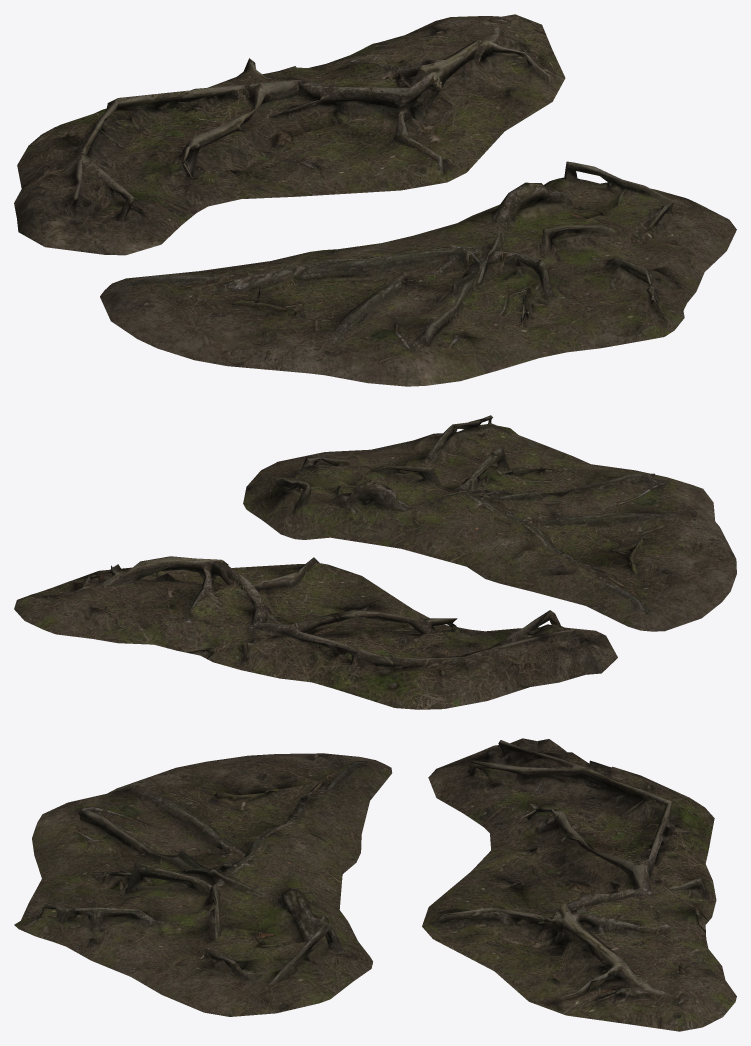
Rendered from pine_roots-lod.glb.
3 views of the same model, one above another, from view 1: azimuth 30°, elevation 25°; view 2: azimuth 150°, elevation 25°; view 3: azimuth 270°, elevation 25° (orthographic). The views are drawn at different scales.
Visible parts, largest first — view 1: pine_roots_b, pine_roots_a; view 2: pine_roots_b, pine_roots_a; view 3: pine_roots_b, pine_roots_a.
Boxes of the visible parts, left/top/right/bottom form: pine_roots_b: left=100, top=161, right=736, bottom=386; pine_roots_a: left=14, top=14, right=565, bottom=255; pine_roots_b: left=243, top=415, right=736, bottom=631; pine_roots_a: left=14, top=556, right=617, bottom=709; pine_roots_b: left=14, top=753, right=392, bottom=1016; pine_roots_a: left=422, top=738, right=736, bottom=1031.
Bounding box in the file's own units: 1.77 × 0.1538 × 1.89.
2 materials, 2 textured.
